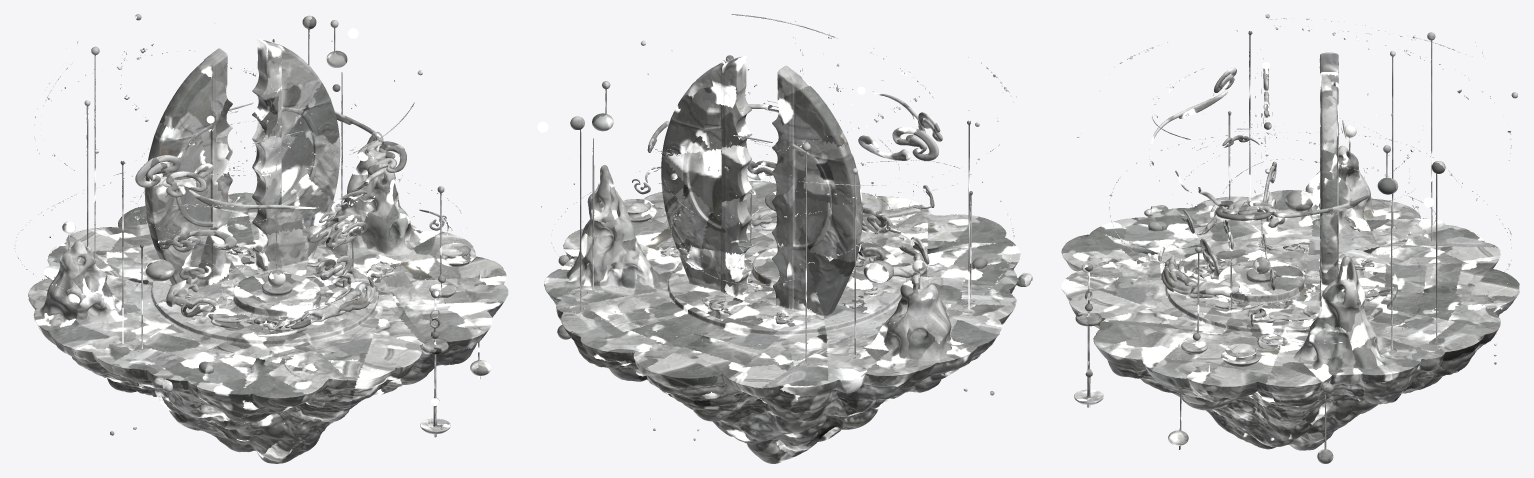
Rendered from house06.glb.
The picture shows the model from 3 angles, left to right: view 1: azimuth 30°, elevation 25°; view 2: azimuth 150°, elevation 25°; view 3: azimuth 270°, elevation 25°; orthographic projection. The views are drawn at different scales.
Bounding box in the file's own units: 0.9073 × 0.85 × 0.8818.
Materials: 2 (2 with a texture image).
